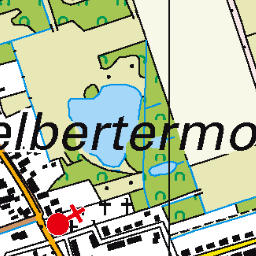church: (45, 202, 87, 238)
